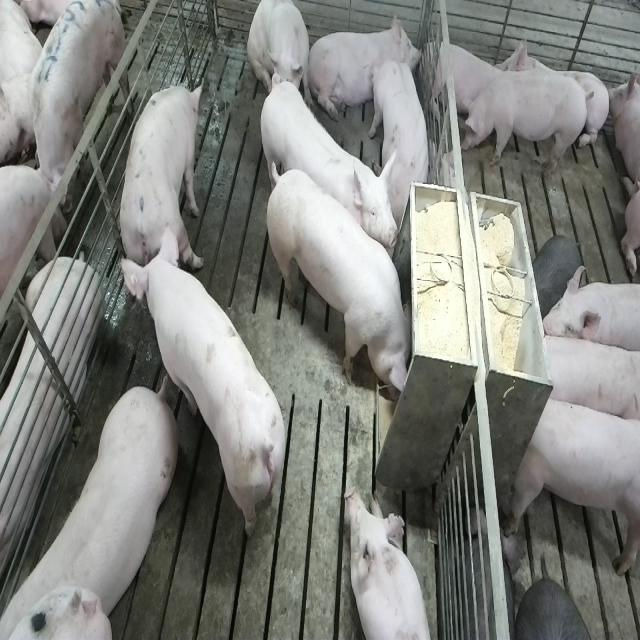Feeding: (270, 163, 421, 404)
Sitting: (248, 0, 312, 111)
Standing: (125, 240, 291, 547), (6, 376, 182, 634), (506, 390, 639, 586), (254, 78, 397, 259), (24, 0, 125, 218), (118, 78, 206, 280), (458, 66, 586, 178), (536, 333, 637, 430), (539, 267, 640, 355)
Sternal_lying: (344, 484, 432, 640), (500, 28, 609, 151), (311, 12, 421, 124), (427, 34, 502, 124)
